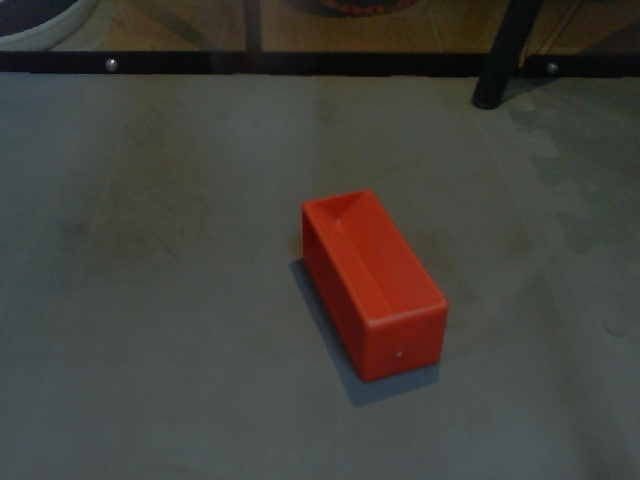RedSample: (295, 185, 450, 384)
